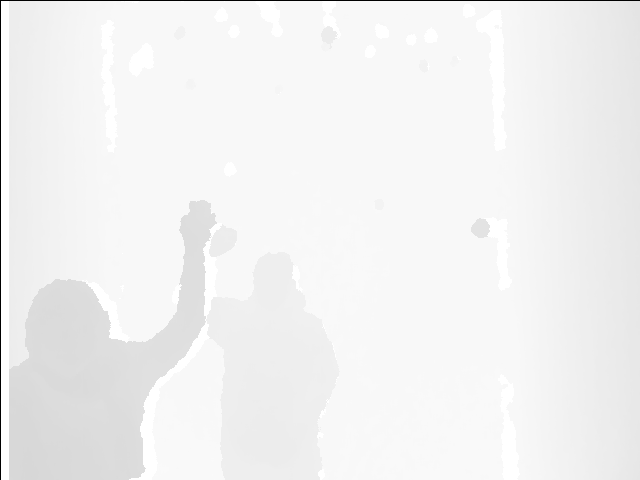hand: (176, 201, 217, 246)
